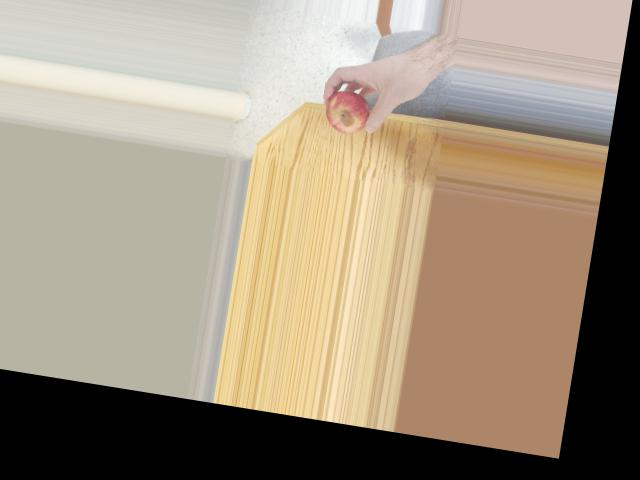apple: (320, 88, 375, 136)
